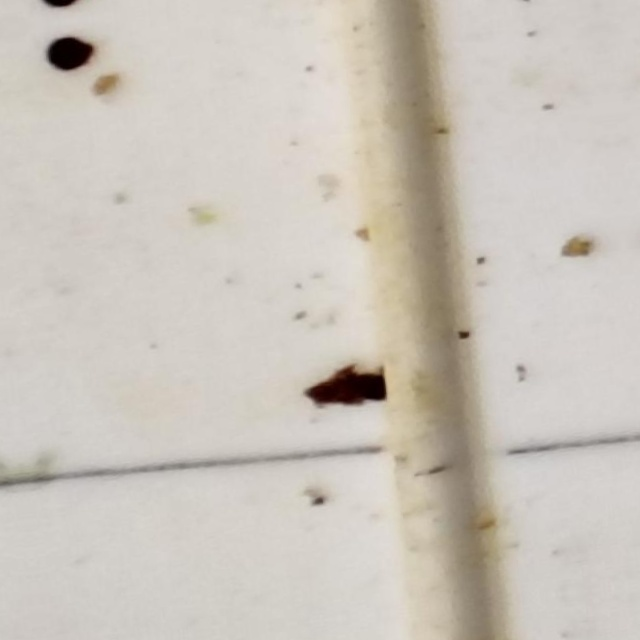varroa: (42, 34, 95, 77)
